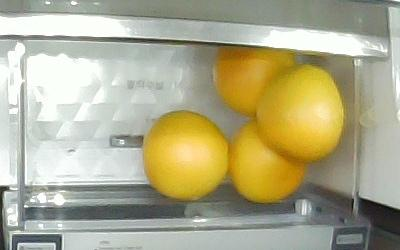grapefruit: (257, 63, 344, 163), (144, 110, 230, 201), (229, 119, 306, 203), (212, 45, 295, 117)
